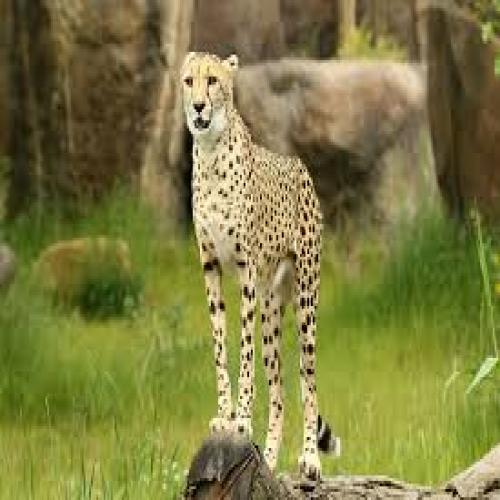cheetah-endangered: (179, 47, 344, 479)
